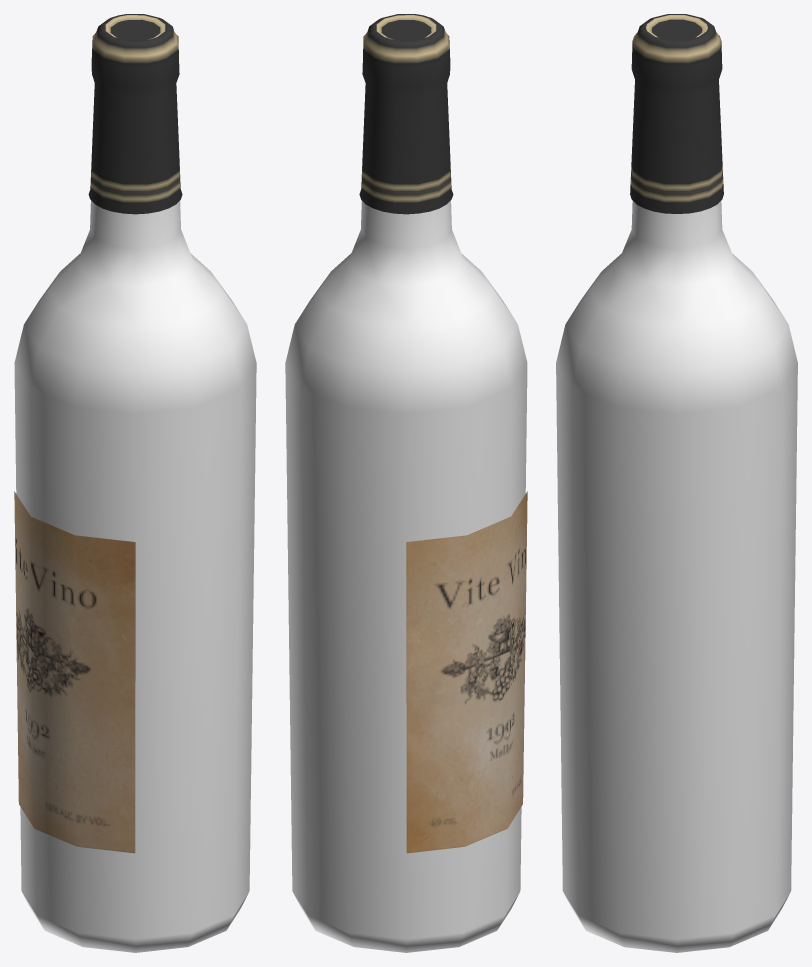
Rendered from italy_wine_bottle_3.gltf.
3 views of the same model, side by side, from view 1: azimuth 30°, elevation 25°; view 2: azimuth 150°, elevation 25°; view 3: azimuth 270°, elevation 25° (orthographic).
Visible parts, largest first — view 1: italy_wine_bottle_3.vmdl_c.italy_wine_bottle_3; view 2: italy_wine_bottle_3.vmdl_c.italy_wine_bottle_3; view 3: italy_wine_bottle_3.vmdl_c.italy_wine_bottle_3.
Part boxes in pixels (left/top/right/bottom): italy_wine_bottle_3.vmdl_c.italy_wine_bottle_3: left=14, top=14, right=256, bottom=952; italy_wine_bottle_3.vmdl_c.italy_wine_bottle_3: left=285, top=14, right=527, bottom=952; italy_wine_bottle_3.vmdl_c.italy_wine_bottle_3: left=556, top=14, right=797, bottom=952.
Size of the model in its own units: 0.0904 by 0.3628 by 0.0902.
1 material, 1 textured.
